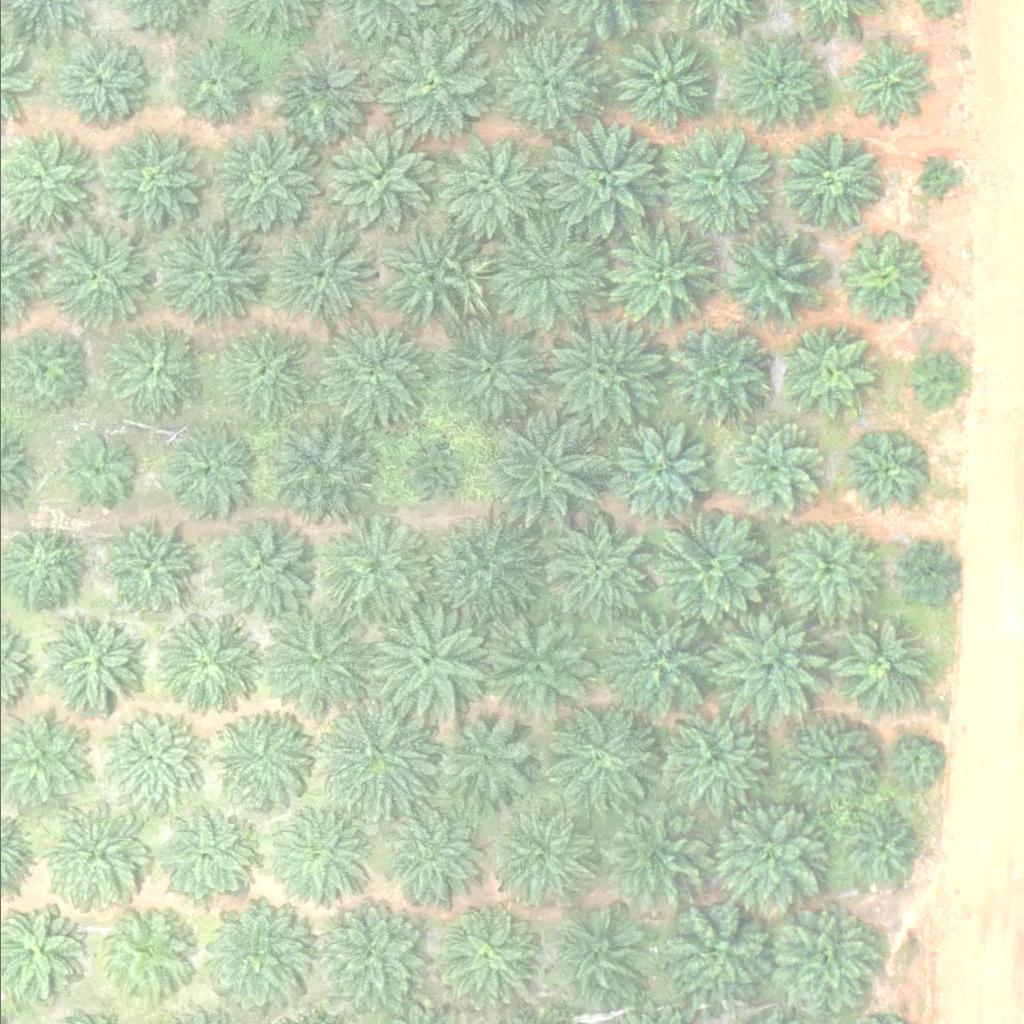Kelapa_Sawit: (536, 116, 662, 241), (479, 209, 605, 334), (537, 305, 663, 430), (478, 410, 604, 535), (647, 511, 773, 636), (418, 507, 544, 632), (598, 594, 724, 719), (367, 604, 493, 729), (536, 699, 662, 824), (311, 694, 437, 819), (652, 887, 778, 1012), (305, 892, 431, 1017), (253, 600, 379, 725), (367, 19, 492, 144), (645, 695, 770, 820), (600, 219, 714, 332), (659, 319, 773, 432), (264, 418, 378, 531), (433, 311, 546, 424), (316, 316, 429, 429), (711, 608, 824, 721), (479, 609, 592, 722), (423, 704, 536, 817), (369, 803, 482, 916), (194, 895, 307, 1008), (261, 791, 374, 904), (151, 224, 264, 337), (38, 221, 151, 334), (315, 516, 429, 628), (666, 125, 779, 237), (430, 128, 543, 240), (381, 218, 494, 330), (599, 419, 712, 531), (542, 510, 655, 622), (708, 797, 821, 909), (596, 798, 709, 910), (202, 315, 315, 427), (268, 220, 381, 332), (728, 32, 829, 132), (612, 34, 713, 134), (496, 31, 597, 131), (324, 128, 425, 228), (718, 415, 819, 515), (777, 519, 878, 619), (829, 619, 930, 719), (775, 708, 876, 808), (541, 907, 642, 1007), (440, 908, 541, 1008), (94, 904, 195, 1004), (153, 806, 254, 906), (42, 804, 143, 904), (209, 707, 310, 807), (100, 321, 201, 421), (210, 132, 311, 232), (99, 126, 200, 226), (273, 40, 374, 140), (784, 132, 884, 232), (726, 227, 826, 327), (101, 709, 201, 809), (152, 612, 252, 712), (42, 612, 142, 712), (208, 512, 308, 612), (95, 519, 195, 619), (153, 420, 253, 520), (165, 37, 254, 125), (841, 37, 929, 125), (786, 330, 874, 418), (837, 429, 925, 517), (498, 810, 586, 898), (54, 34, 142, 122), (832, 236, 920, 323), (62, 431, 138, 506), (842, 811, 917, 886), (395, 440, 458, 503), (892, 541, 955, 604), (899, 351, 962, 413), (888, 736, 938, 786), (916, 163, 954, 200)
